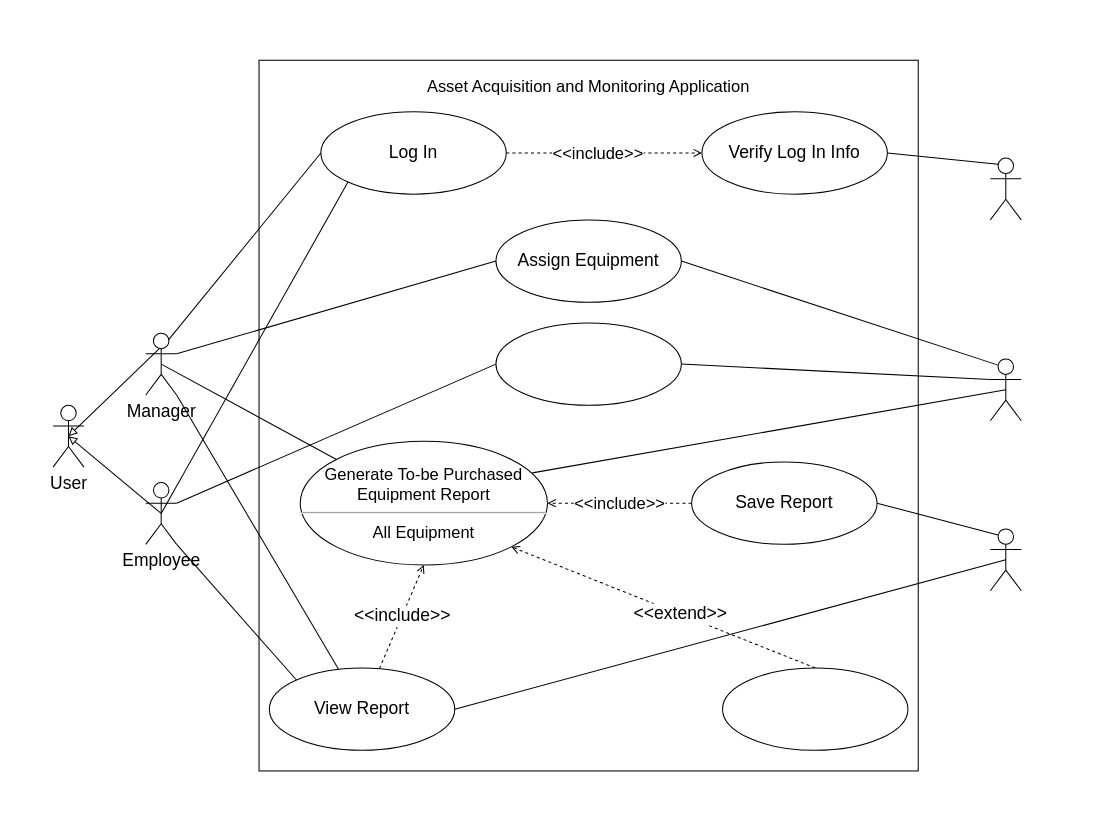
The diagram is 1112 pixels wide and 835 high, and some of its shapes have lost their labels. Here are the shapes that lost their labels. From the top down, the centre of each, then its label:
At pixel 1005 188: "User Info List".
At pixel 588 363: "Record Equipment Condition".
At pixel 1005 389: "Equipment List".
At pixel 1005 559: "Report List".
At pixel 815 708: "Generate List of Equipment Report".
